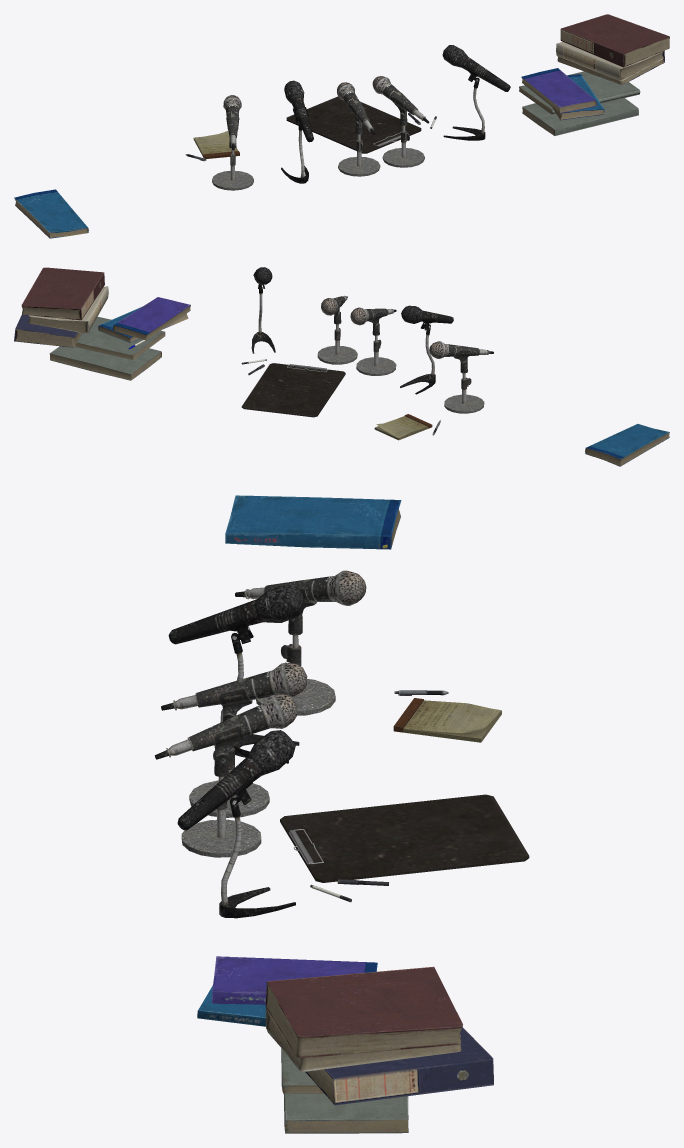
File: sm39_065_pressdeskset01a.fbx
3 views of the same model, one above another, from view 1: azimuth 30°, elevation 25°; view 2: azimuth 150°, elevation 25°; view 3: azimuth 270°, elevation 25° (orthographic). The views are drawn at different scales.
Parts seen in each view (by area): view 1: LOD_1_Group_0_Sub_4__sm31_008_MicrophoneStand01A_A_Mat, LOD_1_Group_9_Sub_1__sm36_007_PaperWork01A_A_Mat, LOD_1_Group_0_Sub_1__sm36_045_Clipboard01A_A_Mat, LOD_1_Group_1_Sub_1__sm36_007_PaperWork01A_A_Mat, LOD_1_Group_2_Sub_1__sm36_007_PaperWork01A_A_Mat, LOD_1_Group_1_Sub_2__sm31_009_MicrophoneStand02A_A_Mat, LOD_1_Group_3_Sub_1__sm36_007_PaperWork01A_A_Mat, LOD_1_Group_7_Sub_1__sm36_007_PaperWork01A_A_Mat, LOD_1_Group_5_Sub_1__sm36_007_PaperWork01A_A_Mat, LOD_1_Group_0_Sub_2__sm36_013_Notepad01A_A_Mat, LOD_1_Group_0_Sub_5__sm31_009_MicrophoneStand02A_A_Mat, LOD_1_Group_4_Sub_1__sm36_007_PaperWork01A_A_Mat; view 2: LOD_1_Group_0_Sub_4__sm31_008_MicrophoneStand01A_A_Mat, LOD_1_Group_0_Sub_1__sm36_045_Clipboard01A_A_Mat, LOD_1_Group_9_Sub_1__sm36_007_PaperWork01A_A_Mat, LOD_1_Group_1_Sub_1__sm36_007_PaperWork01A_A_Mat, LOD_1_Group_3_Sub_1__sm36_007_PaperWork01A_A_Mat, LOD_1_Group_2_Sub_1__sm36_007_PaperWork01A_A_Mat, LOD_1_Group_5_Sub_1__sm36_007_PaperWork01A_A_Mat, LOD_1_Group_4_Sub_1__sm36_007_PaperWork01A_A_Mat, LOD_1_Group_1_Sub_2__sm31_009_MicrophoneStand02A_A_Mat, LOD_1_Group_7_Sub_1__sm36_007_PaperWork01A_A_Mat, LOD_1_Group_0_Sub_2__sm36_013_Notepad01A_A_Mat, LOD_1_Group_0_Sub_5__sm31_009_MicrophoneStand02A_A_Mat; view 3: LOD_1_Group_0_Sub_1__sm36_045_Clipboard01A_A_Mat, LOD_1_Group_0_Sub_4__sm31_008_MicrophoneStand01A_A_Mat, LOD_1_Group_9_Sub_1__sm36_007_PaperWork01A_A_Mat, LOD_1_Group_2_Sub_1__sm36_007_PaperWork01A_A_Mat, LOD_1_Group_4_Sub_1__sm36_007_PaperWork01A_A_Mat, LOD_1_Group_1_Sub_2__sm31_009_MicrophoneStand02A_A_Mat, LOD_1_Group_1_Sub_1__sm36_007_PaperWork01A_A_Mat, LOD_1_Group_3_Sub_1__sm36_007_PaperWork01A_A_Mat, LOD_1_Group_0_Sub_2__sm36_013_Notepad01A_A_Mat, LOD_1_Group_0_Sub_5__sm31_009_MicrophoneStand02A_A_Mat, LOD_1_Group_7_Sub_1__sm36_007_PaperWork01A_A_Mat, LOD_1_Group_5_Sub_1__sm36_007_PaperWork01A_A_Mat.
Part boxes in pixels (x1,y1,x2,y2): LOD_1_Group_0_Sub_4__sm31_008_MicrophoneStand01A_A_Mat: (212,76,429,190); LOD_1_Group_9_Sub_1__sm36_007_PaperWork01A_A_Mat: (560,14,669,67); LOD_1_Group_0_Sub_1__sm36_045_Clipboard01A_A_Mat: (286,96,421,153); LOD_1_Group_1_Sub_1__sm36_007_PaperWork01A_A_Mat: (521,68,604,120); LOD_1_Group_2_Sub_1__sm36_007_PaperWork01A_A_Mat: (14,189,88,238); LOD_1_Group_1_Sub_2__sm31_009_MicrophoneStand02A_A_Mat: (281,45,510,183); LOD_1_Group_3_Sub_1__sm36_007_PaperWork01A_A_Mat: (522,98,638,135); LOD_1_Group_7_Sub_1__sm36_007_PaperWork01A_A_Mat: (556,41,663,81); LOD_1_Group_5_Sub_1__sm36_007_PaperWork01A_A_Mat: (519,71,640,114); LOD_1_Group_0_Sub_2__sm36_013_Notepad01A_A_Mat: (193,131,239,159); LOD_1_Group_0_Sub_5__sm31_009_MicrophoneStand02A_A_Mat: (284,80,313,142); LOD_1_Group_4_Sub_1__sm36_007_PaperWork01A_A_Mat: (557,50,664,84); LOD_1_Group_0_Sub_4__sm31_008_MicrophoneStand01A_A_Mat: (317,295,493,413); LOD_1_Group_0_Sub_1__sm36_045_Clipboard01A_A_Mat: (241,363,345,417); LOD_1_Group_9_Sub_1__sm36_007_PaperWork01A_A_Mat: (21,267,104,320); LOD_1_Group_1_Sub_1__sm36_007_PaperWork01A_A_Mat: (98,297,190,342); LOD_1_Group_3_Sub_1__sm36_007_PaperWork01A_A_Mat: (49,346,161,380); LOD_1_Group_2_Sub_1__sm36_007_PaperWork01A_A_Mat: (585,424,669,466); LOD_1_Group_5_Sub_1__sm36_007_PaperWork01A_A_Mat: (75,316,165,359); LOD_1_Group_4_Sub_1__sm36_007_PaperWork01A_A_Mat: (14,314,81,347); LOD_1_Group_1_Sub_2__sm31_009_MicrophoneStand02A_A_Mat: (251,267,435,394); LOD_1_Group_7_Sub_1__sm36_007_PaperWork01A_A_Mat: (28,286,108,333); LOD_1_Group_0_Sub_2__sm36_013_Notepad01A_A_Mat: (374,414,432,440); LOD_1_Group_0_Sub_5__sm31_009_MicrophoneStand02A_A_Mat: (401,305,453,323); LOD_1_Group_0_Sub_1__sm36_045_Clipboard01A_A_Mat: (280,794,529,882); LOD_1_Group_0_Sub_4__sm31_008_MicrophoneStand01A_A_Mat: (154,570,366,857); LOD_1_Group_9_Sub_1__sm36_007_PaperWork01A_A_Mat: (265,966,462,1057); LOD_1_Group_2_Sub_1__sm36_007_PaperWork01A_A_Mat: (225,495,401,549); LOD_1_Group_4_Sub_1__sm36_007_PaperWork01A_A_Mat: (305,1027,493,1105); LOD_1_Group_1_Sub_2__sm31_009_MicrophoneStand02A_A_Mat: (177,619,299,918); LOD_1_Group_1_Sub_1__sm36_007_PaperWork01A_A_Mat: (197,956,377,1026); LOD_1_Group_3_Sub_1__sm36_007_PaperWork01A_A_Mat: (283,1093,408,1133); LOD_1_Group_0_Sub_2__sm36_013_Notepad01A_A_Mat: (393,698,501,742); LOD_1_Group_0_Sub_5__sm31_009_MicrophoneStand02A_A_Mat: (168,584,304,644); LOD_1_Group_7_Sub_1__sm36_007_PaperWork01A_A_Mat: (265,1007,461,1071); LOD_1_Group_5_Sub_1__sm36_007_PaperWork01A_A_Mat: (281,1048,324,1093).
Size of the model in its own units: 2.7 by 0.4759 by 0.7138.
